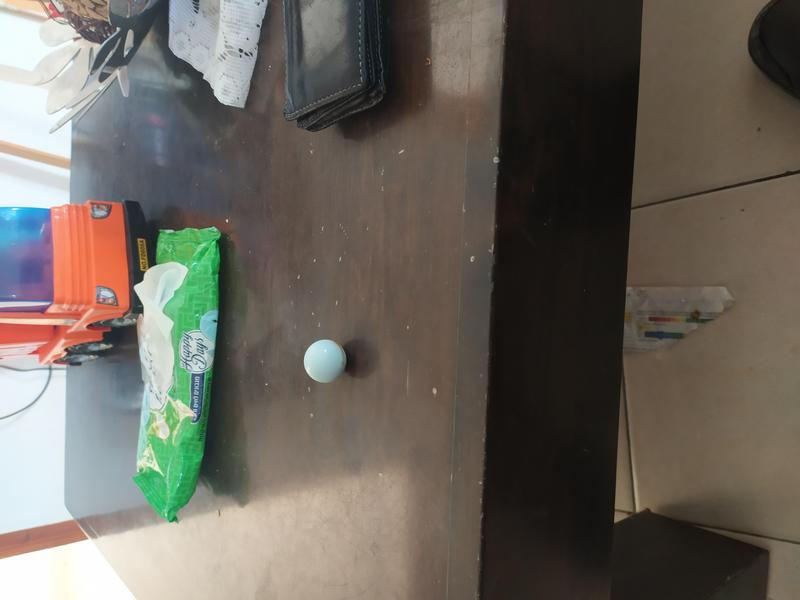Warning: (302, 336, 351, 386)
